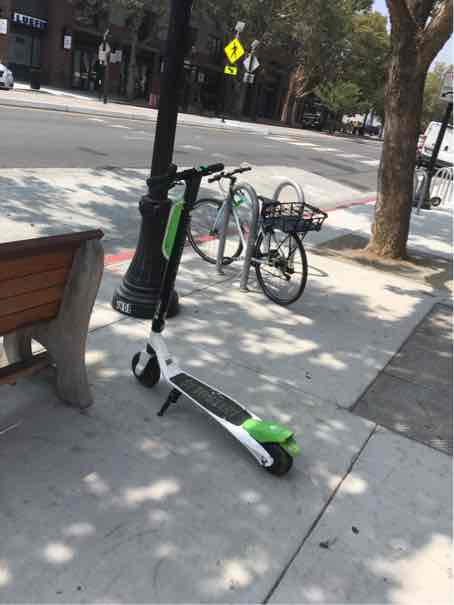scooter: (110, 148, 306, 480)
